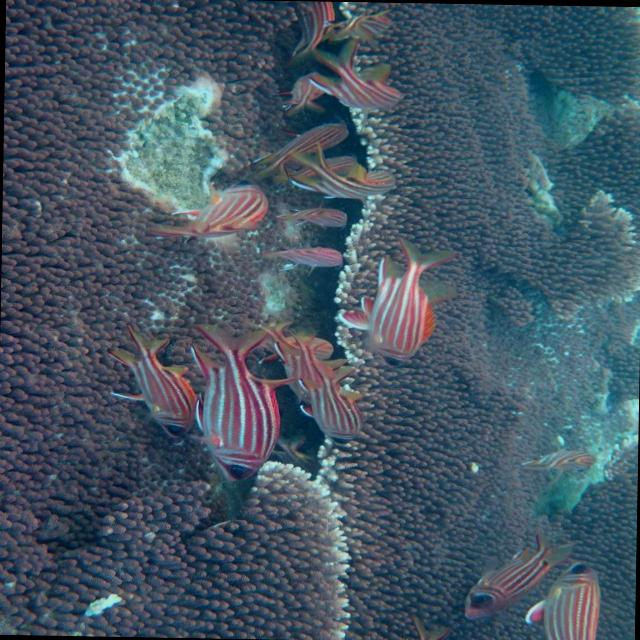Asker Baligi: (185, 312, 278, 518), (336, 235, 462, 368), (98, 321, 198, 464), (459, 529, 544, 626), (293, 362, 373, 459), (318, 49, 413, 127), (245, 116, 358, 176), (174, 178, 264, 246), (549, 561, 612, 640), (270, 233, 342, 270), (286, 196, 349, 232)
